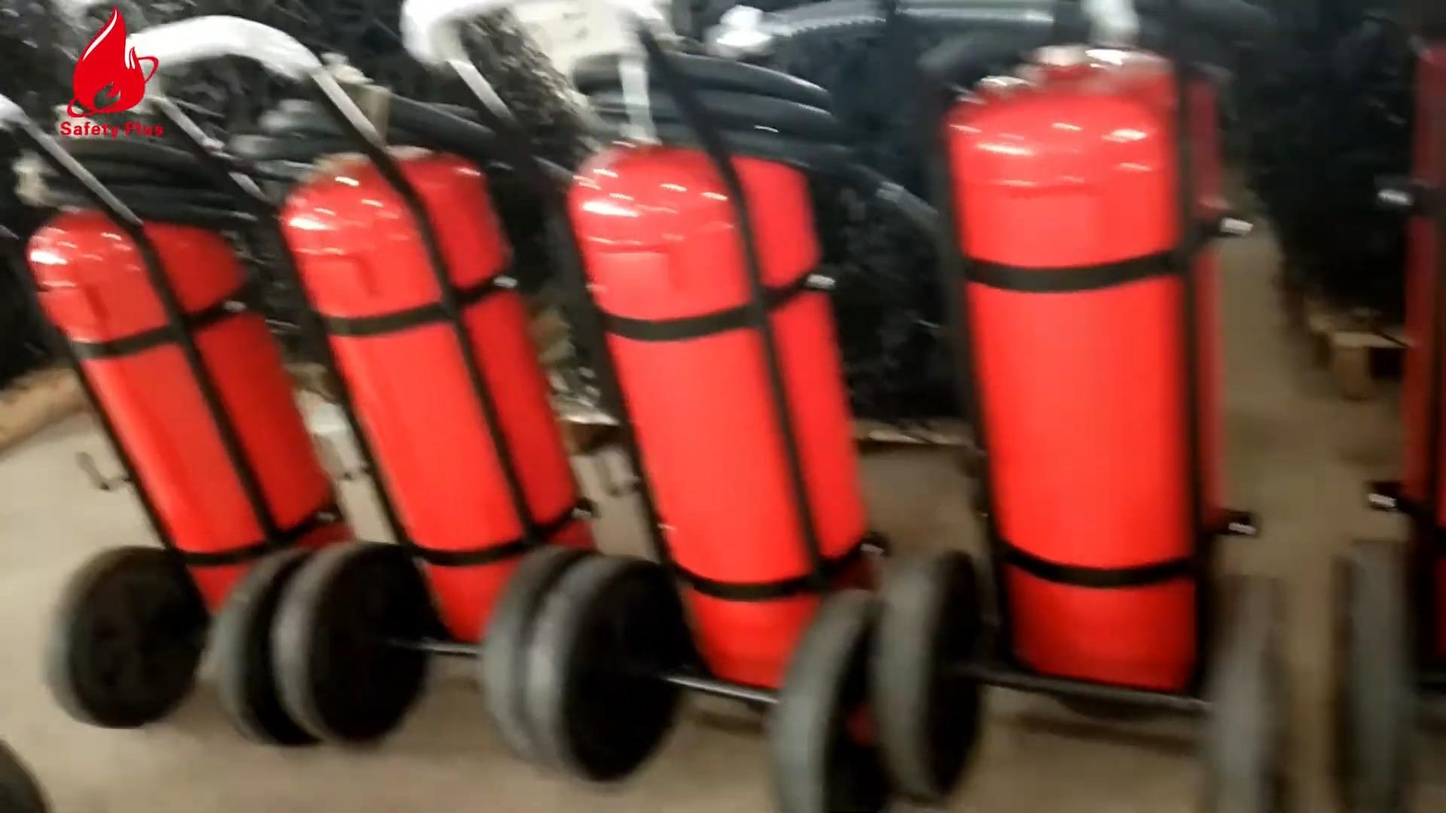FireExtinguisher: (936, 23, 1277, 744), (561, 111, 904, 754), (0, 140, 362, 651), (303, 98, 605, 684)
